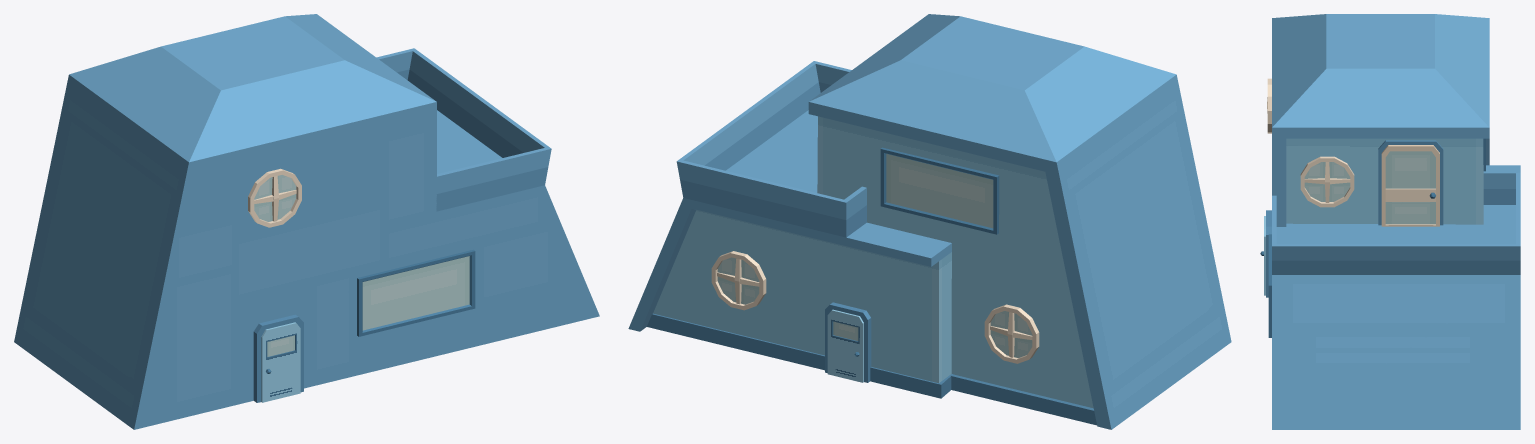
Rendered from W.H_lightblue.fix.gltf.
3 renders of one model, left to right at view 1: azimuth 30°, elevation 25°; view 2: azimuth 150°, elevation 25°; view 3: azimuth 270°, elevation 25°, orthographic. The views are drawn at different scales.
Visible parts, largest first — view 1: mesh; view 2: mesh; view 3: mesh.
Part boxes in pixels (bbox=[...]): mesh: bbox=[14, 14, 599, 429]; mesh: bbox=[628, 14, 1231, 429]; mesh: bbox=[1260, 14, 1520, 429].
Size of the model in its own units: 23.27 by 13.8 by 12.45.
1 material, 1 textured.
